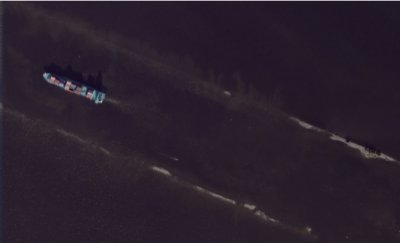boat: (19, 15, 22, 21)
